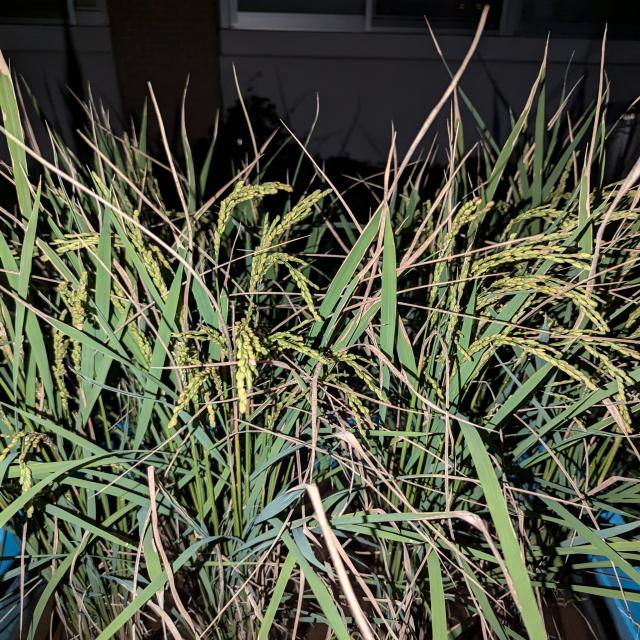9month_ine: (84, 61, 384, 638), (0, 36, 241, 637), (291, 96, 536, 616), (506, 122, 640, 576)
